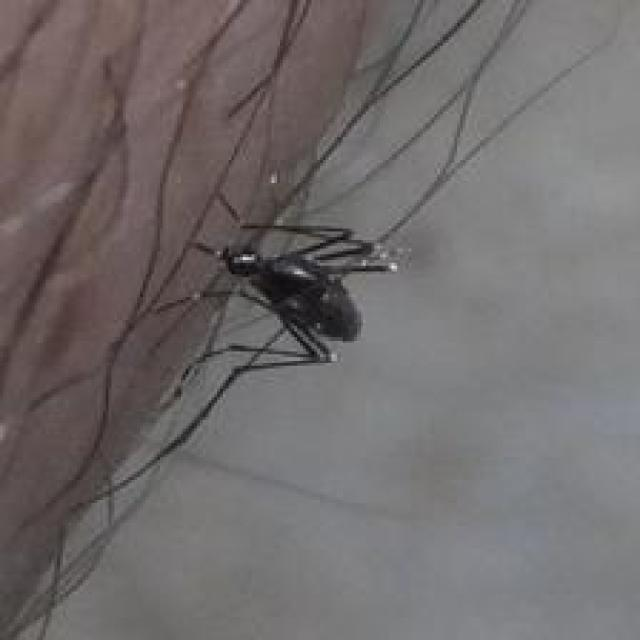Aedes albopictus: (191, 220, 400, 366)
